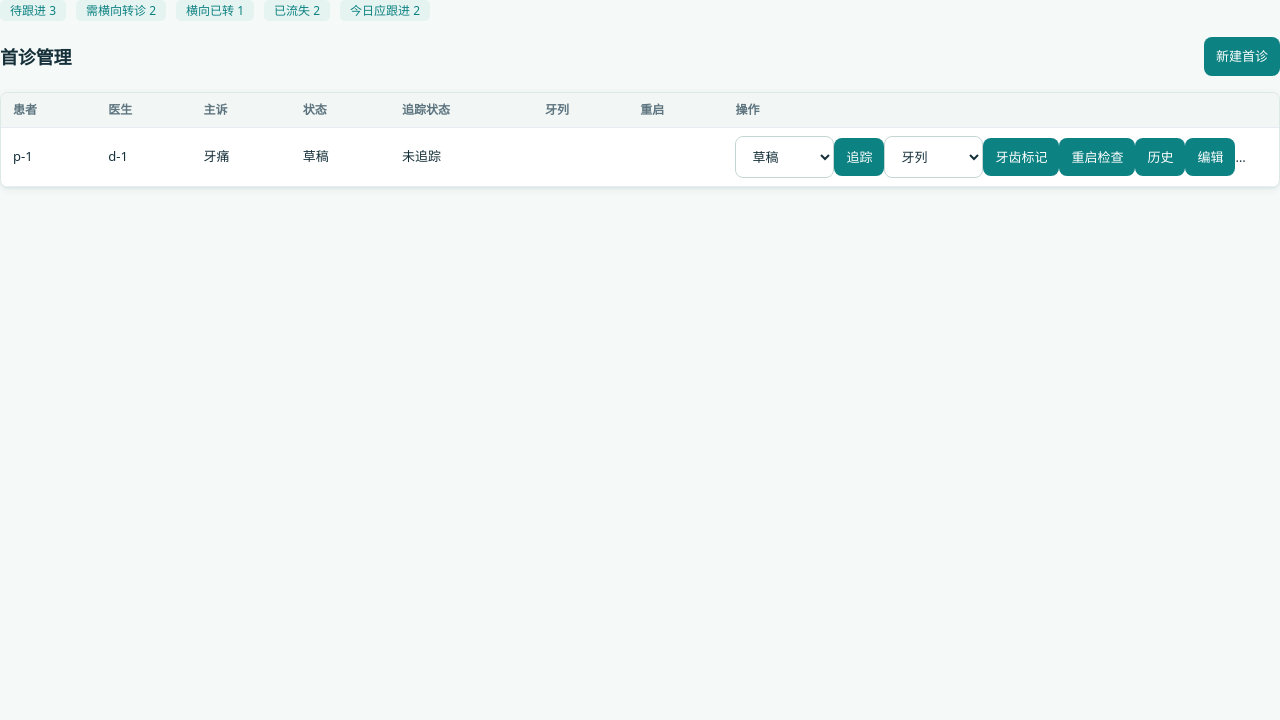
Scenario: FirstExamsPage › marks a first exam as lost through the tracking dialog
This screenshot has width=1280, height=720.
Check: the text "牙痛" is shown, box [192,127,291,186]
Click the button "追踪" at [859, 157], box [834,138,884,176]
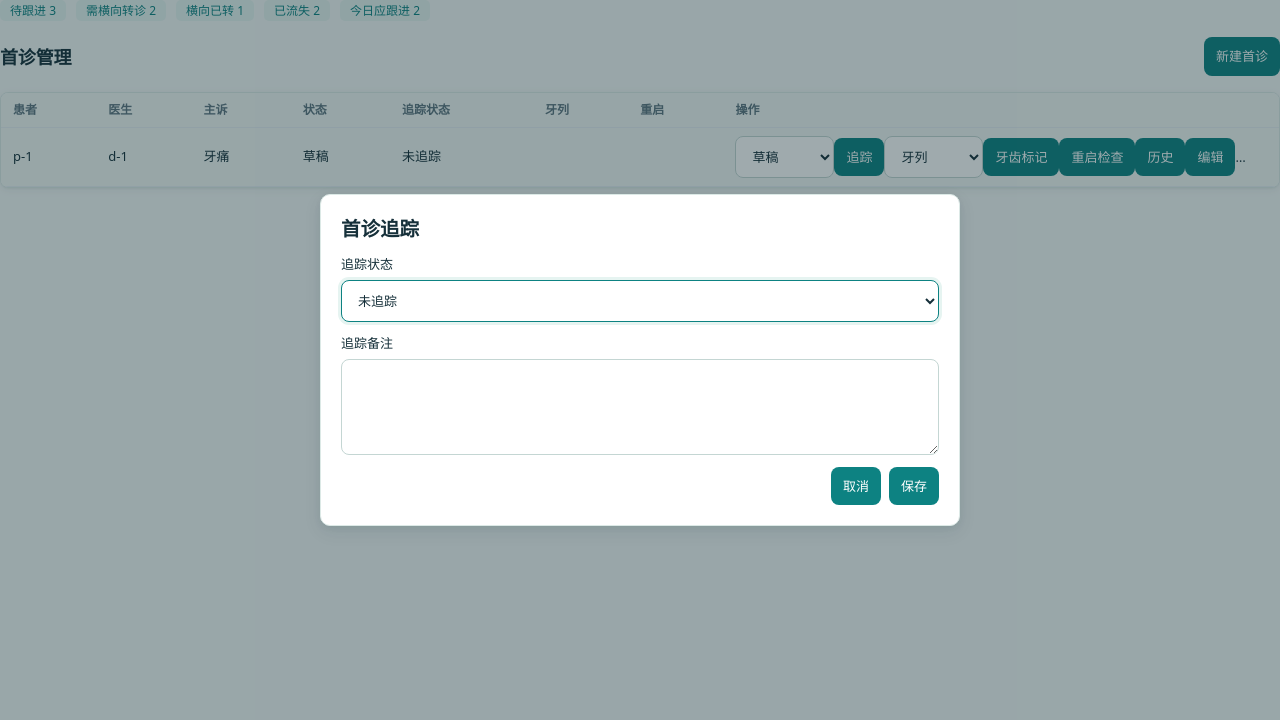
Select "已流失" in the dropdown labelled "追踪状态" at [640, 301], box [341,280,939,322]
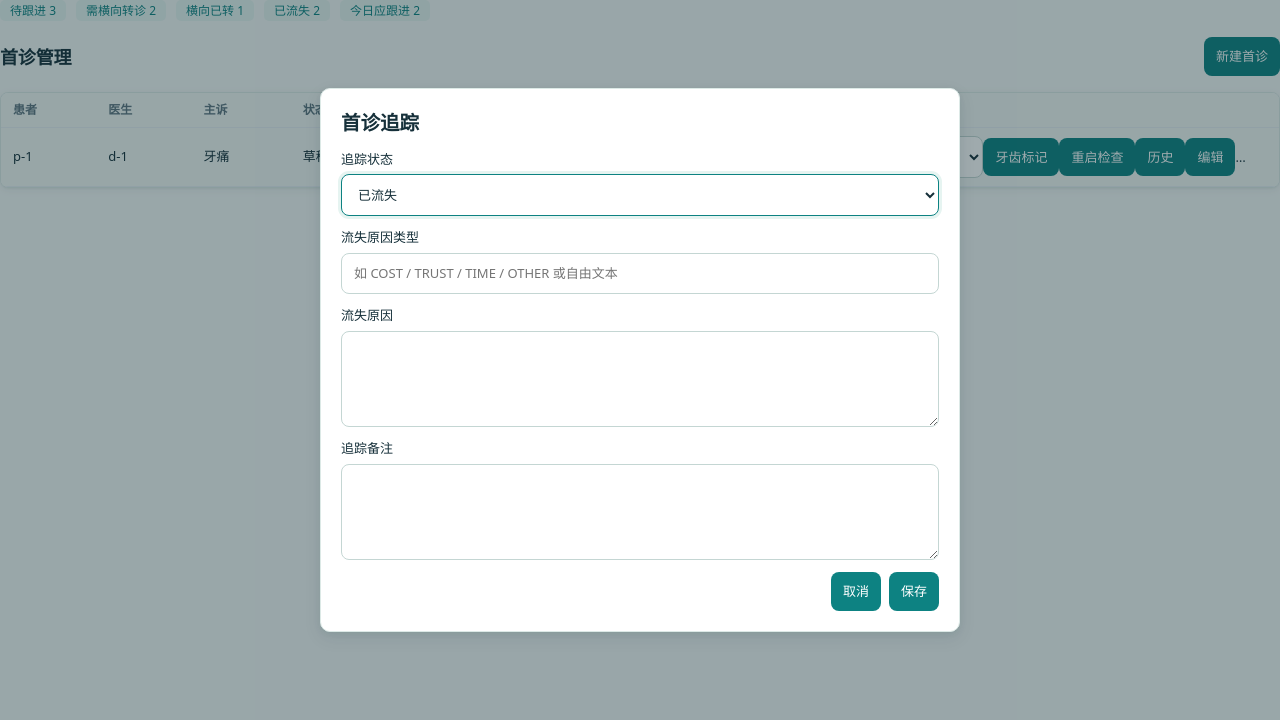
Type "COST" into the field labelled "流失原因类型" at [640, 274], box [341,253,939,294]
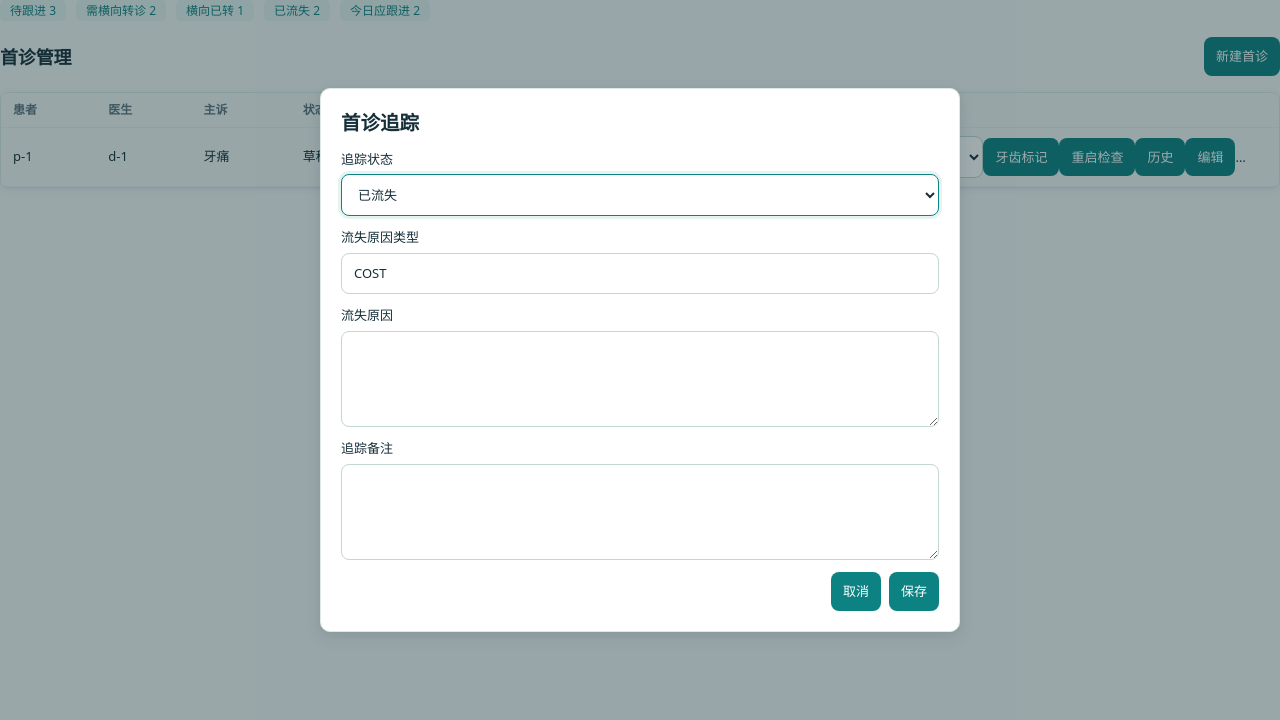
Type "价格超出预算" into the text box labelled "流失原因" at [640, 379], box [341,331,939,427]
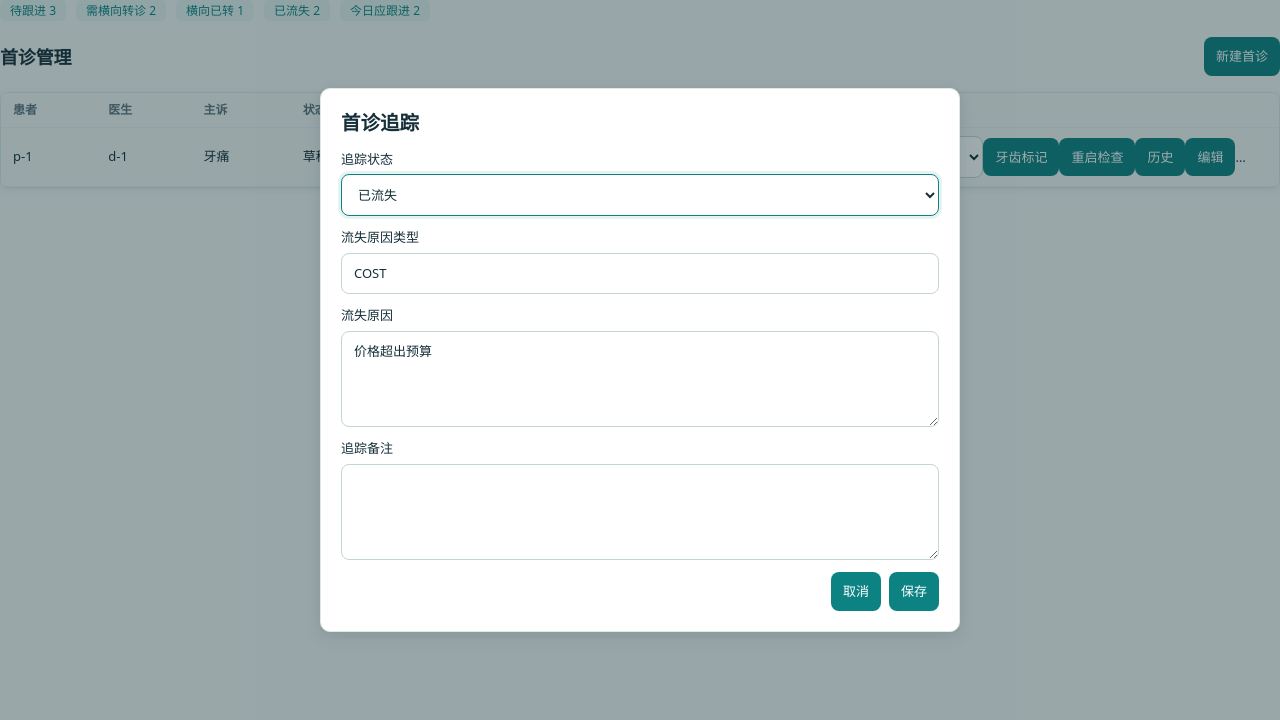
Type "电话回访确认流失" into the text box labelled "追踪备注" at [640, 512], box [341,464,939,560]
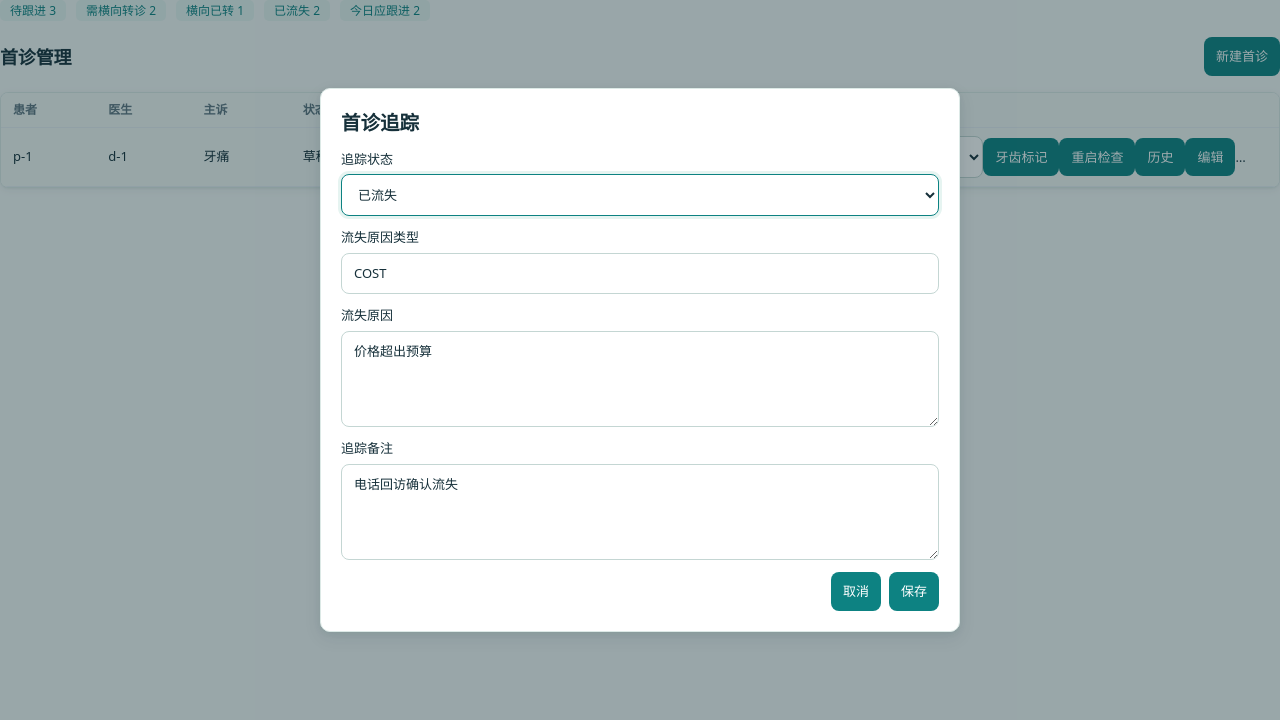
Click the button "保存" at [914, 591], box [889,572,939,611]
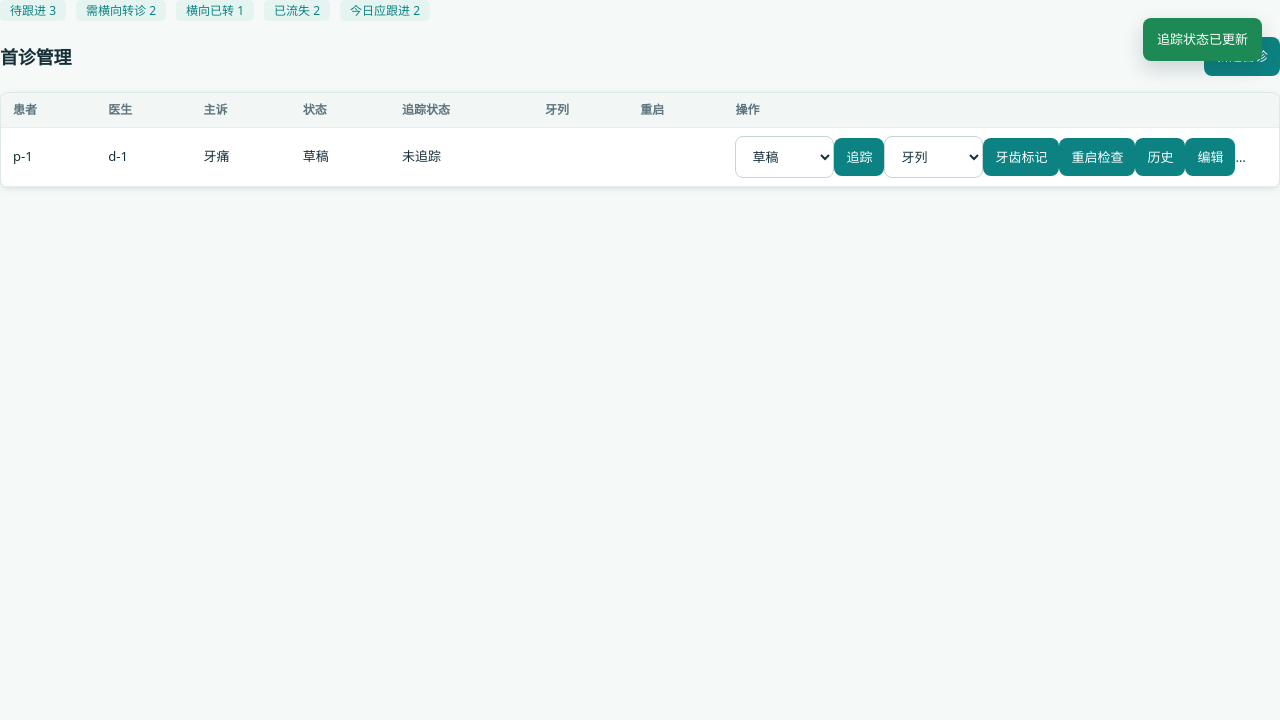
Check: the text "追踪状态已更新" is shown, box [1143,18,1262,61]
Check: the label labelled "流失原因类型" is gone
